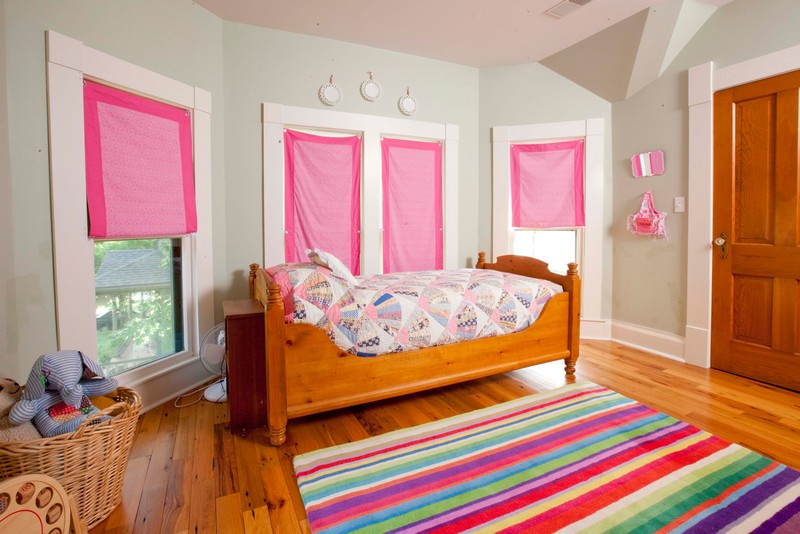bed: (247, 253, 583, 445)
door: (712, 70, 800, 393)
